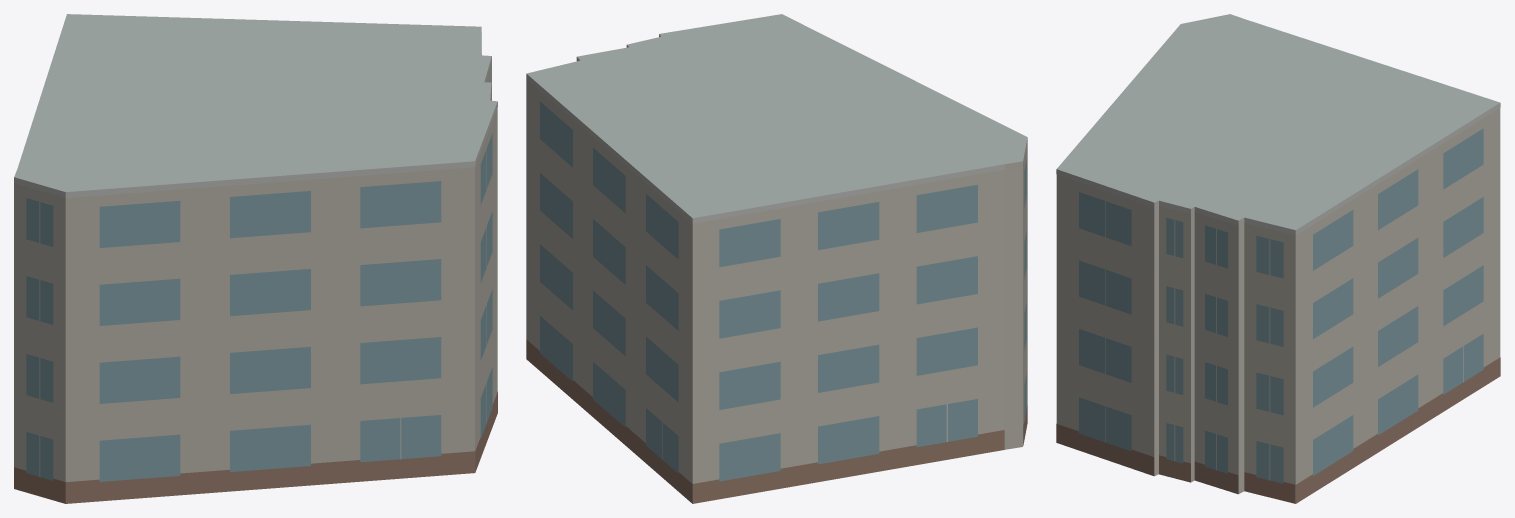
File: survey-upis-32498676.glb
The picture shows the model from 3 angles, left to right: view 1: azimuth 30°, elevation 25°; view 2: azimuth 150°, elevation 25°; view 3: azimuth 270°, elevation 25°; orthographic projection. The views are drawn at different scales.
Parts seen in each view (by area): view 1: survey-upis-32498676.tmp; view 2: survey-upis-32498676.tmp; view 3: survey-upis-32498676.tmp.
Boxes of the visible parts, x1,y1,x2,y2 form: survey-upis-32498676.tmp: (14,14,497,503); survey-upis-32498676.tmp: (526,14,1027,503); survey-upis-32498676.tmp: (1056,14,1500,503).
Bounding box in the file's own units: 21.87 × 12.9 × 18.98.
